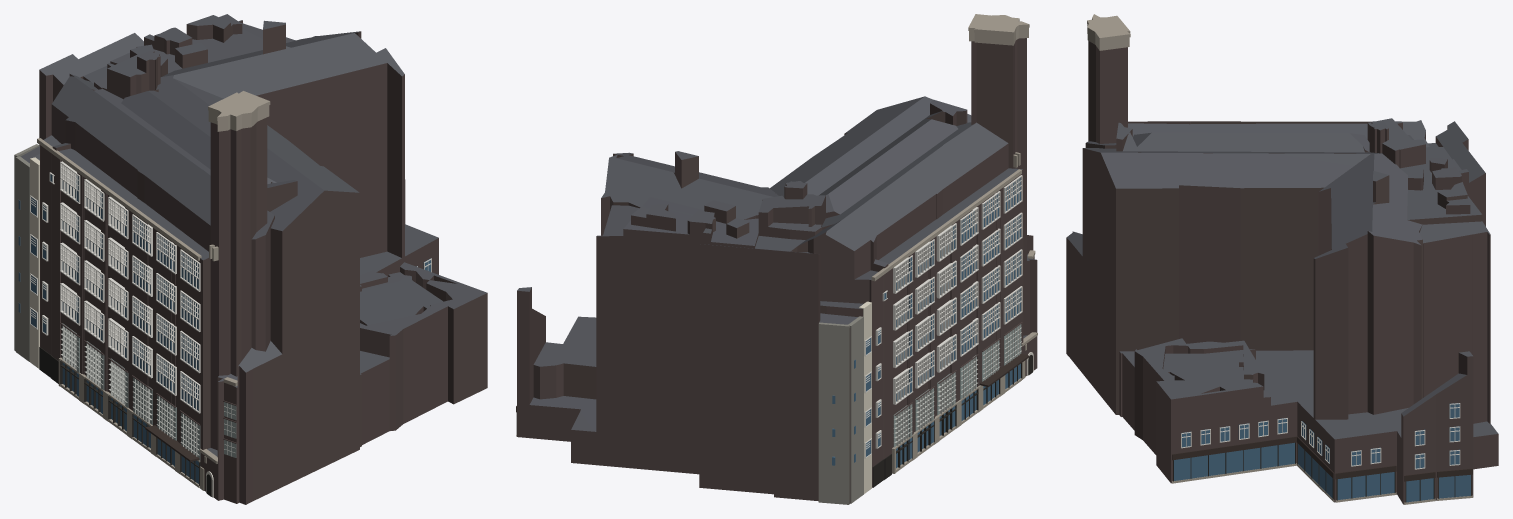
Rendered from telegraaf-gebouw.glb.
3 views of the same model, side by side, from view 1: azimuth 30°, elevation 25°; view 2: azimuth 150°, elevation 25°; view 3: azimuth 270°, elevation 25° (orthographic). The views are drawn at different scales.
Visible parts, largest first — view 1: telegraaf-gebouw; view 2: telegraaf-gebouw; view 3: telegraaf-gebouw.
Part boxes in pixels (left/top/right/bottom): telegraaf-gebouw: left=14, top=14, right=487, bottom=504; telegraaf-gebouw: left=516, top=14, right=1037, bottom=504; telegraaf-gebouw: left=1066, top=14, right=1498, bottom=504.
Bounding box in the file's own units: 49.09 × 47.12 × 55.18.
